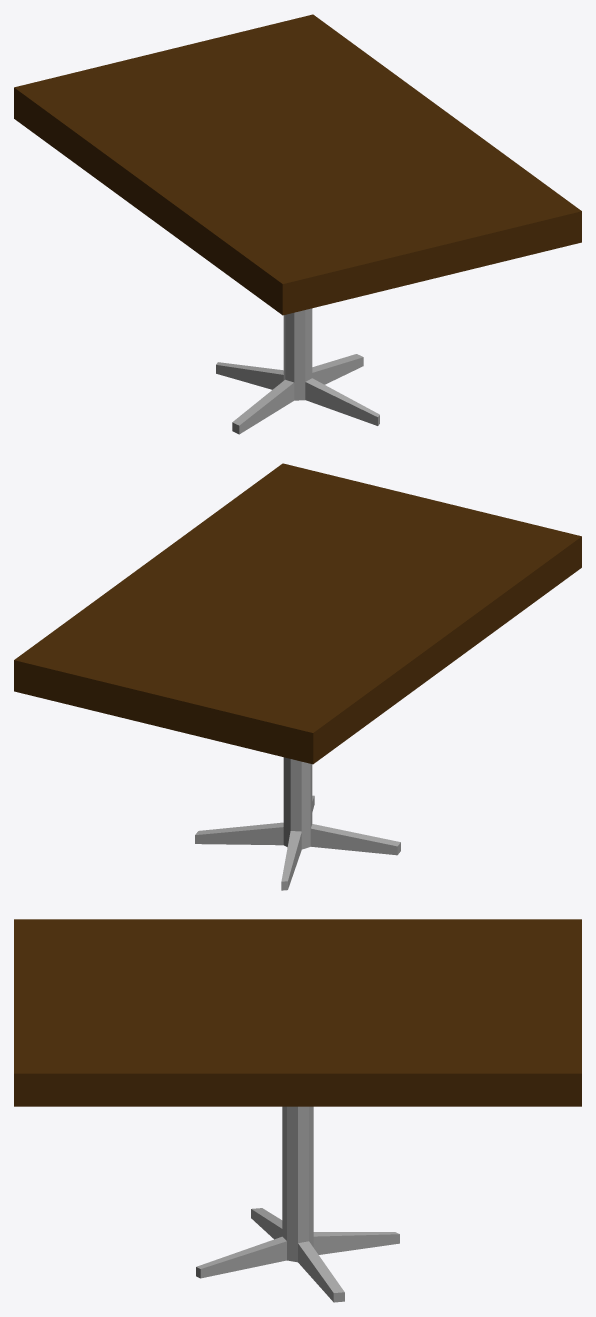
Rendered from TableA.fbx.
3 views of the same model, one above another, from view 1: azimuth 30°, elevation 25°; view 2: azimuth 150°, elevation 25°; view 3: azimuth 270°, elevation 25° (orthographic). The views are drawn at different scales.
Visible parts, largest first — view 1: Table; view 2: Table; view 3: Table.
Part boxes in pixels (x1,y1,x2,y2): Table: (14,14,581,434); Table: (14,463,581,890); Table: (14,919,581,1302).
Bounding box in the file's own units: 93.65 × 74.58 × 146.
